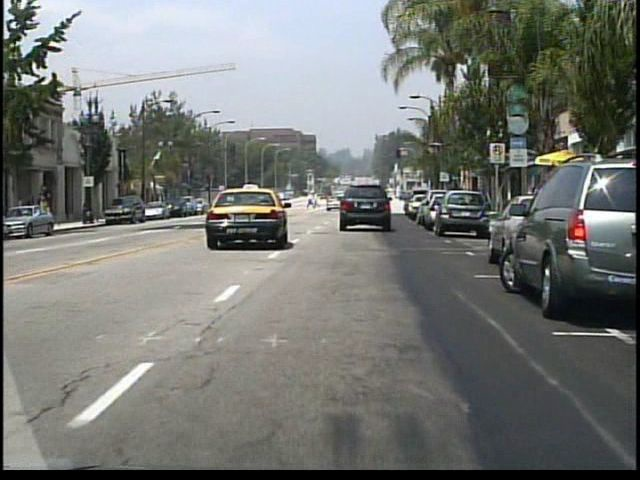person: (39, 194, 51, 225), (313, 191, 322, 210), (305, 192, 314, 211)
